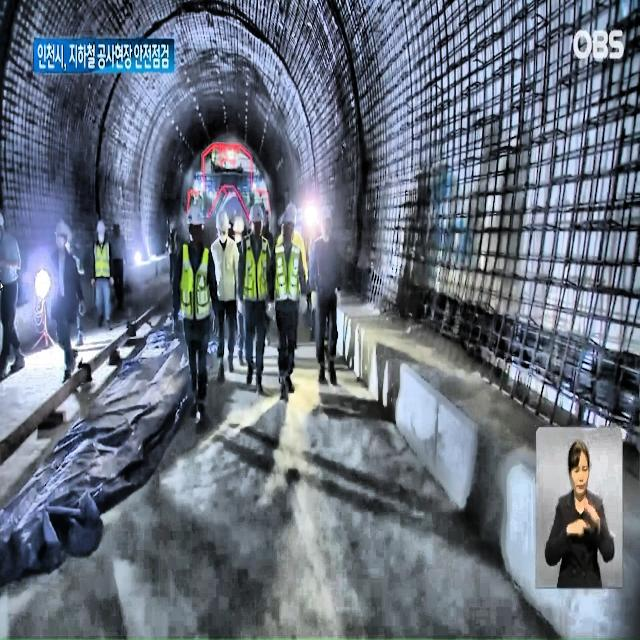safety_helmet: (280, 196, 299, 233), (246, 200, 266, 227), (54, 218, 72, 246), (186, 204, 205, 229), (215, 208, 229, 235), (93, 217, 109, 239), (316, 201, 336, 218), (234, 215, 245, 233), (167, 217, 180, 230)
safety_jacket: (182, 242, 212, 318), (240, 238, 274, 296), (277, 245, 305, 301), (89, 248, 114, 282), (168, 238, 180, 258)
